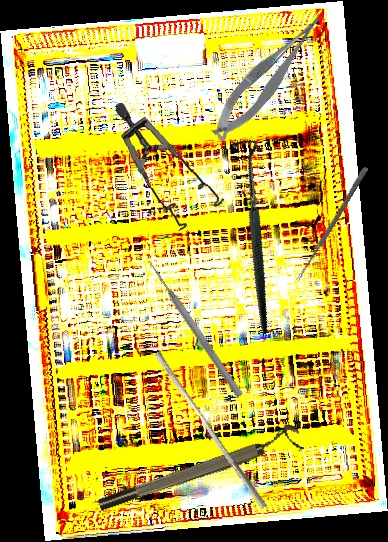Fixation Ring: (93, 421, 305, 515)
Hook Surgical: (167, 132, 335, 336)
Micro Scissor: (199, 8, 340, 146)
Pusher: (148, 350, 274, 510), (145, 258, 245, 399)
Speculum: (115, 96, 226, 235)
Surgical Spoon: (295, 165, 369, 283)
